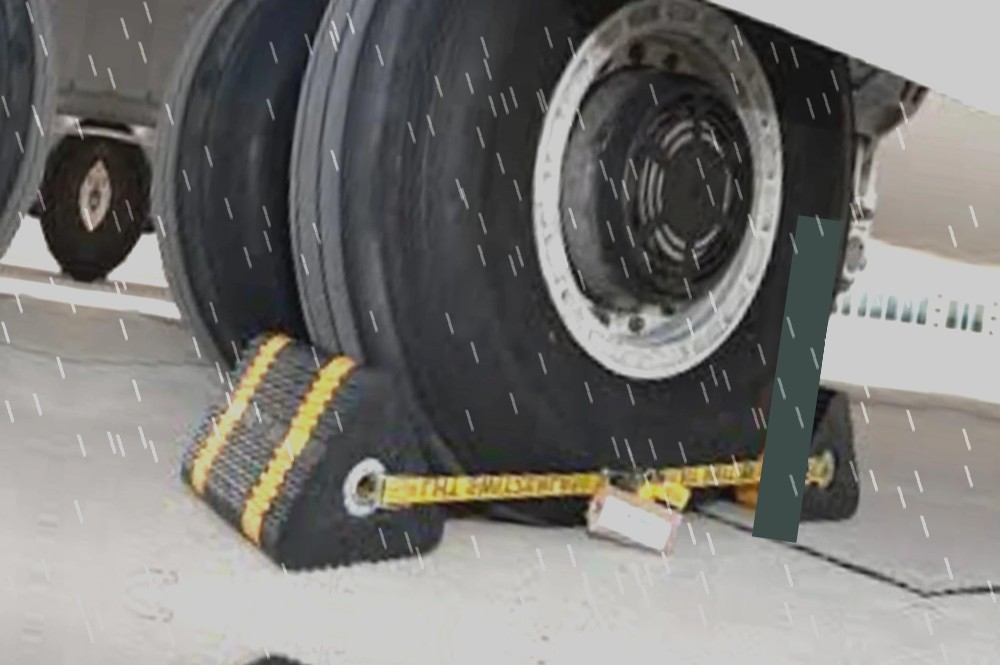chock: (165, 321, 474, 592), (753, 375, 878, 529)
wheel: (228, 0, 904, 538), (129, 0, 384, 388), (27, 128, 103, 278), (83, 136, 159, 286)
